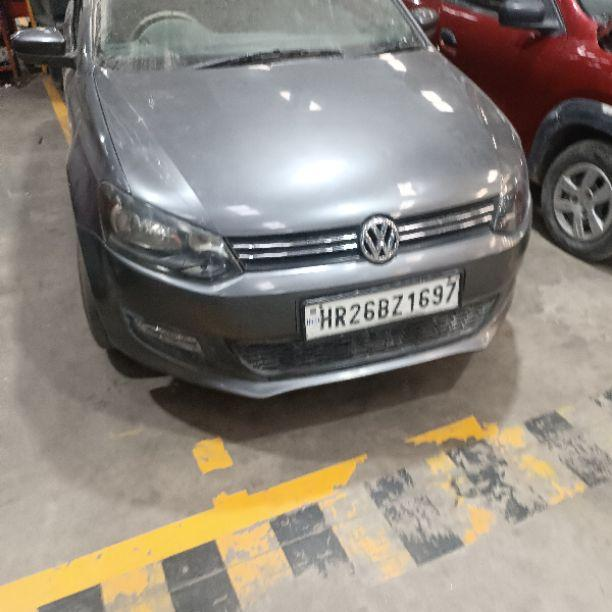license_plate: (299, 269, 463, 342)
